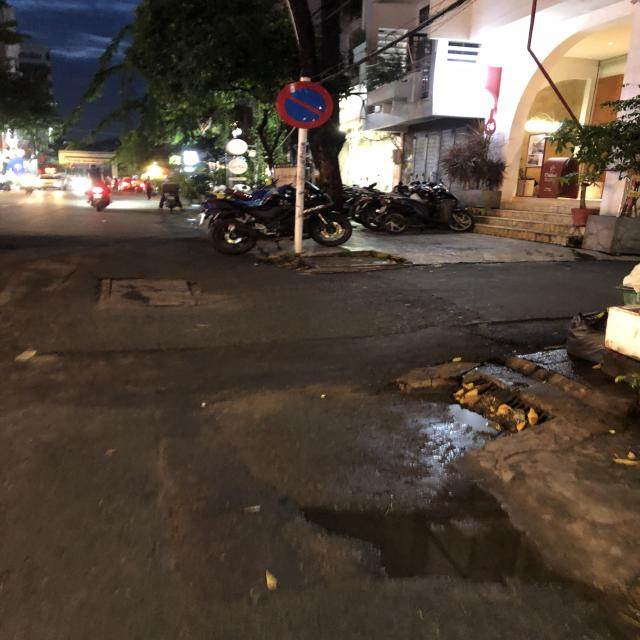Bien bao cam do xe: (273, 80, 331, 128)
